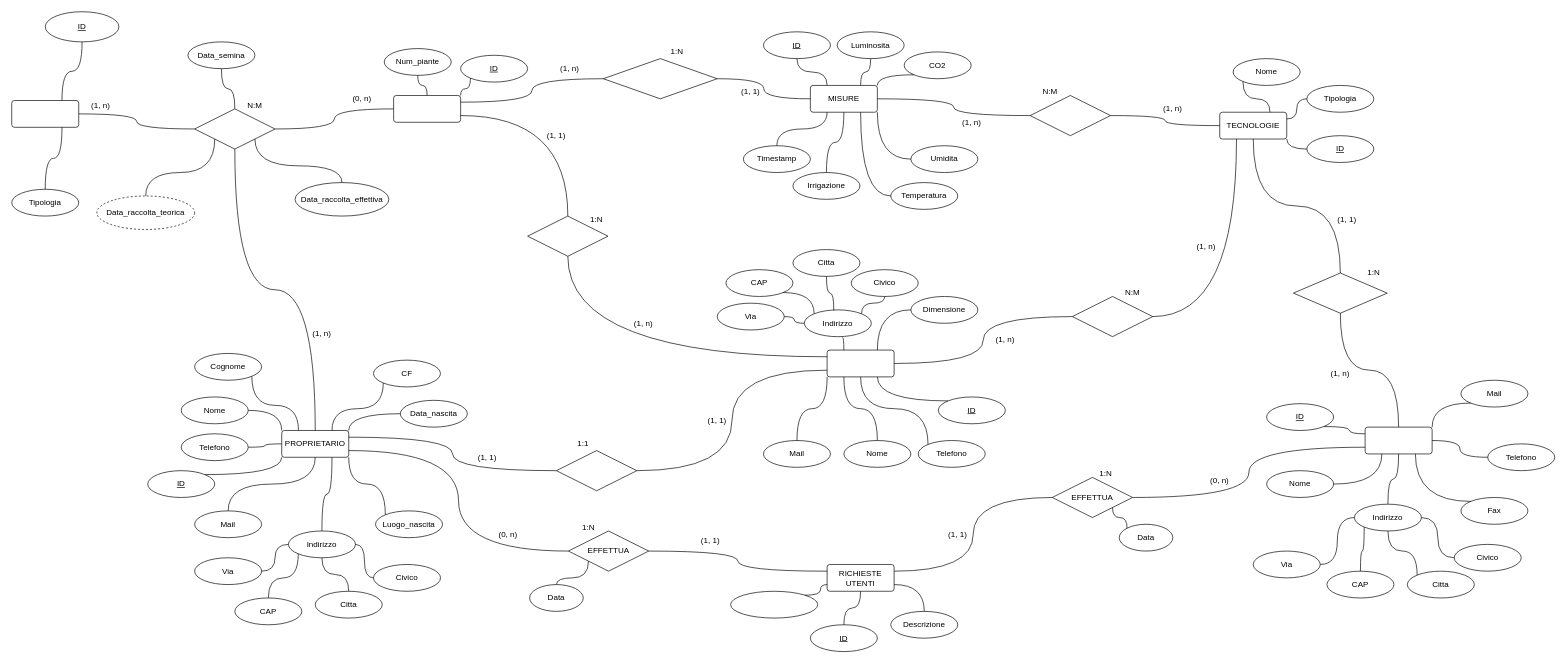
Image size: 1566x663. Some labels were removed from this diagram. The shapes that lost their labels are listed below. From the top down, each one's box as (x1, y1, x2, y2) in pixels, then its label:
(603, 58, 717, 99): CARATTERIZZATA
(11, 100, 79, 127): COLTURA
(194, 108, 275, 149): COLTIVA
(393, 95, 461, 122): SERRA
(1029, 95, 1111, 136): EFFETTUANO
(527, 215, 608, 256): CONTIENE
(1293, 272, 1387, 313): FORNISCONO
(1072, 296, 1153, 337): UTILIZZA
(826, 349, 894, 377): SMART-FARM
(1364, 426, 1432, 454): AZIENDE FORNITRICI
(556, 450, 637, 491): DETIENE
(730, 591, 818, 618): Tipologia_mittente
